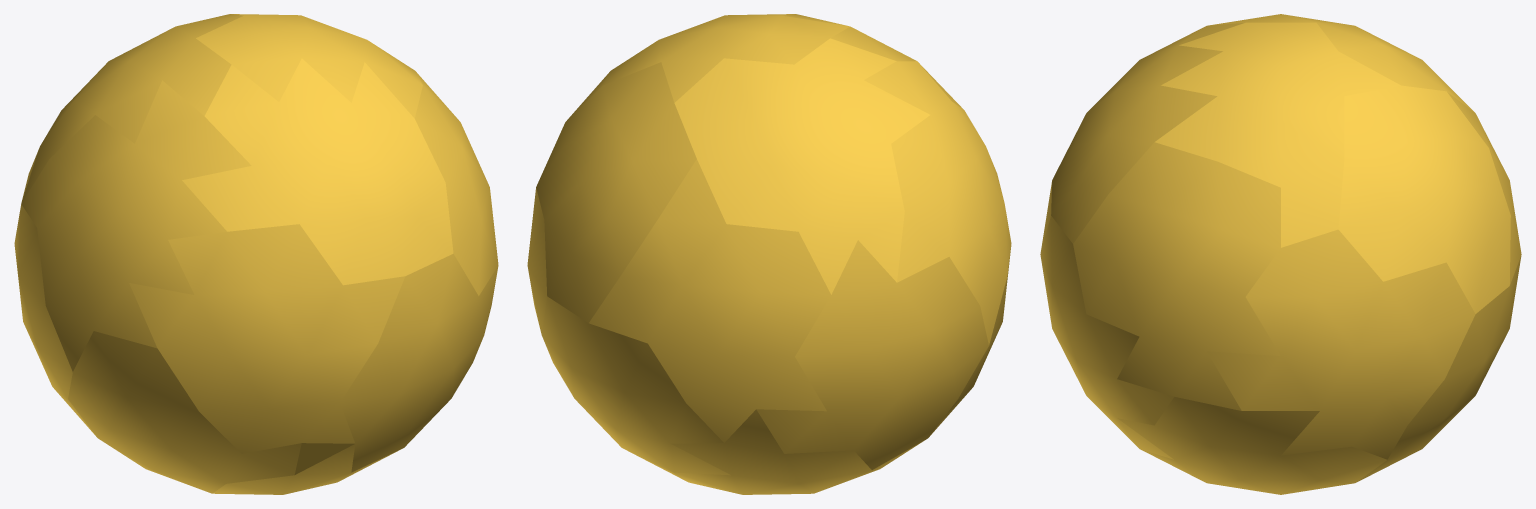
Rendered from ceramic-broken.glb.
3 renders of one model, left to right at view 1: azimuth 30°, elevation 25°; view 2: azimuth 150°, elevation 25°; view 3: azimuth 270°, elevation 25°, orthographic.
Parts seen in each view (by area): view 1: fragment_07, fragment_02, fragment_04, fragment_10, fragment_12, fragment_01, fragment_00, fragment_05, fragment_09, fragment_15; view 2: fragment_01, fragment_06, fragment_09, fragment_03, fragment_04, fragment_11, fragment_00, fragment_14, fragment_08, fragment_02, fragment_12; view 3: fragment_05, fragment_08, fragment_03, fragment_00, fragment_13, fragment_02, fragment_10, fragment_11, fragment_01, fragment_06.
Part boxes in pixels (x1,y1,x2,y2): fragment_07: (129,224,405,453); fragment_02: (182,58,453,285); fragment_04: (21,80,251,371); fragment_10: (294,253,498,474); fragment_12: (68,331,301,493); fragment_01: (21,14,243,202); fragment_00: (196,14,422,118); fragment_05: (414,72,498,332); fragment_09: (14,148,96,436); fragment_15: (213,444,400,494); fragment_01: (674,38,929,294); fragment_06: (589,159,831,442); fragment_09: (756,240,988,469); fragment_03: (536,62,696,322); fragment_04: (864,61,1011,345); fragment_11: (541,296,730,481); fragment_00: (567,14,849,119); fragment_14: (671,409,926,494); fragment_08: (527,187,546,334); fragment_02: (783,14,963,109); fragment_12: (929,249,1010,436); fragment_05: (1073,142,1280,410); fragment_08: (1207,229,1475,459); fragment_03: (1338,85,1510,313); fragment_00: (1155,22,1400,247); fragment_13: (1117,397,1387,494); fragment_02: (1051,23,1243,243); fragment_10: (1040,216,1173,459); fragment_11: (1356,256,1521,482); fragment_01: (1208,14,1474,112); fragment_06: (1447,92,1521,285).
Size of the model in its own units: 2 by 2 by 2.
